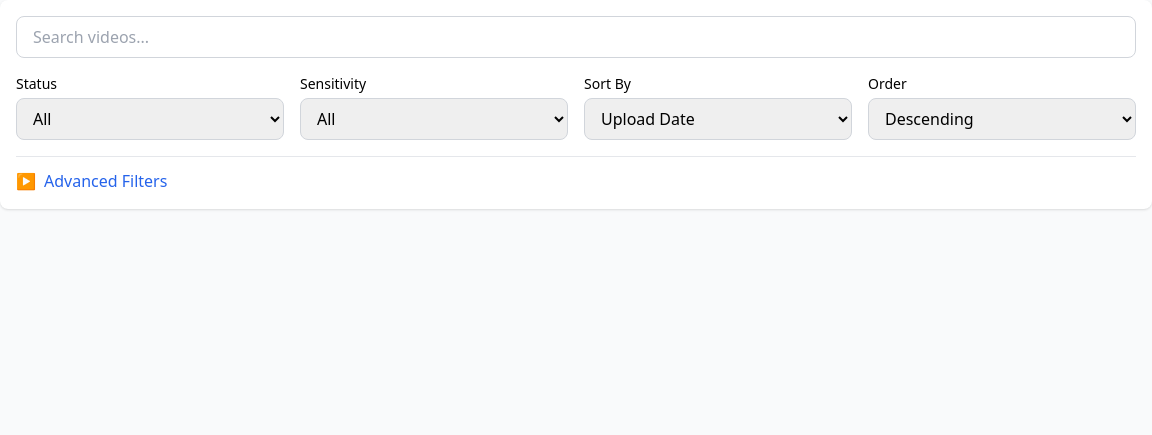
VideoFilters › Advanced Filters Toggle › should toggle advanced filters panel when button clicked
Step 1. Click the text "Advanced Filters" → x=106, y=181, box [44,169,167,193]
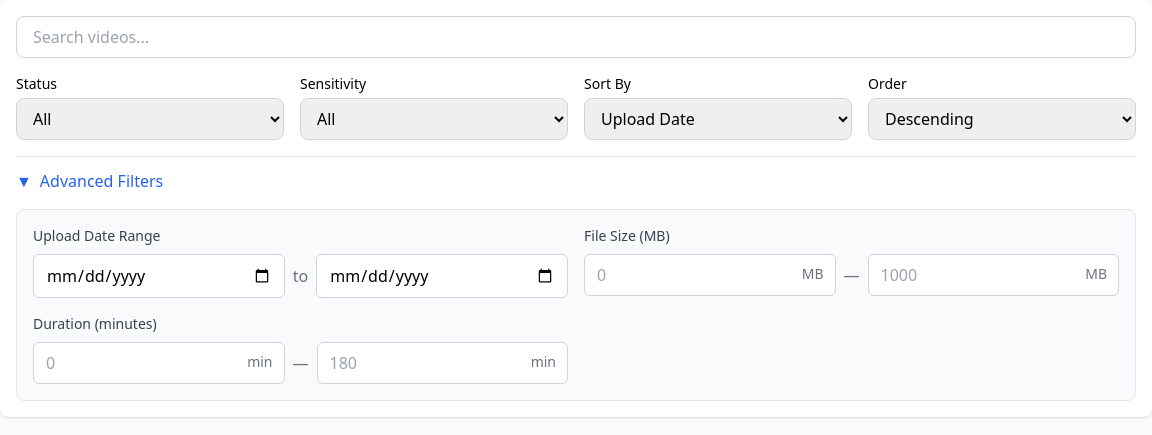
Check: the text "Upload Date Range" is shown, box [33,226,160,245]
Check: the text "File Size (MB)" is shown, box [584,226,670,245]
Check: the text "Duration (minutes)" is shown, box [33,314,157,333]
